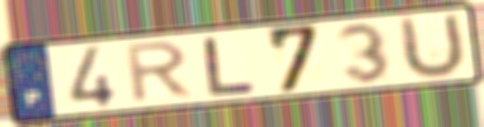3: (335, 20, 395, 84)
4: (67, 42, 119, 111)
7: (264, 22, 323, 96)
L: (200, 35, 258, 98)
R: (124, 39, 198, 106)
U: (398, 10, 469, 83)
